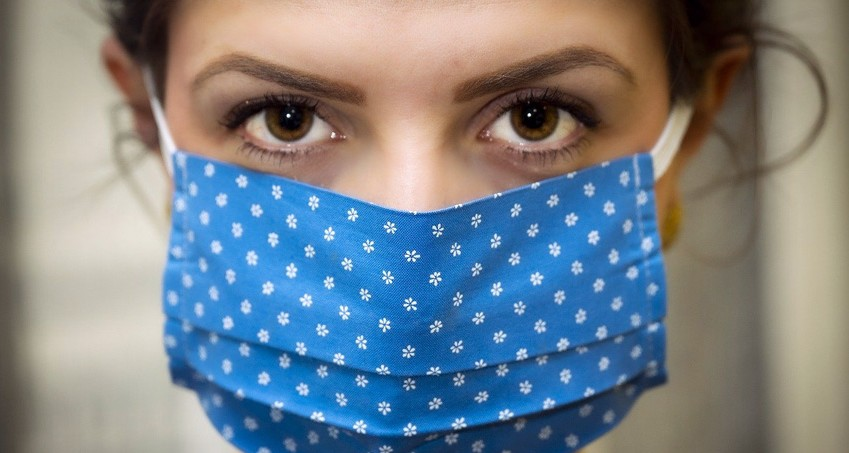with_mask: (140, 4, 735, 453)
